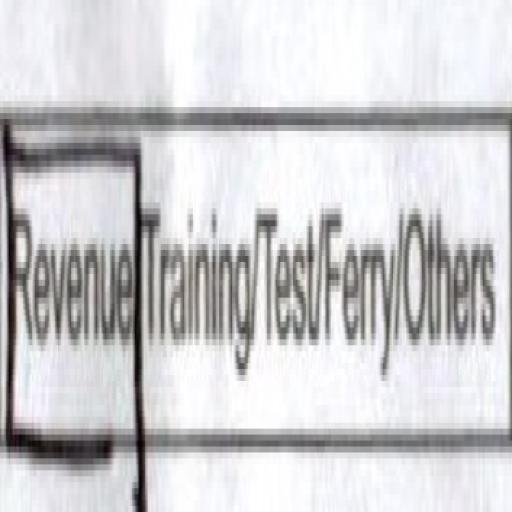check: (0, 41, 145, 512)
